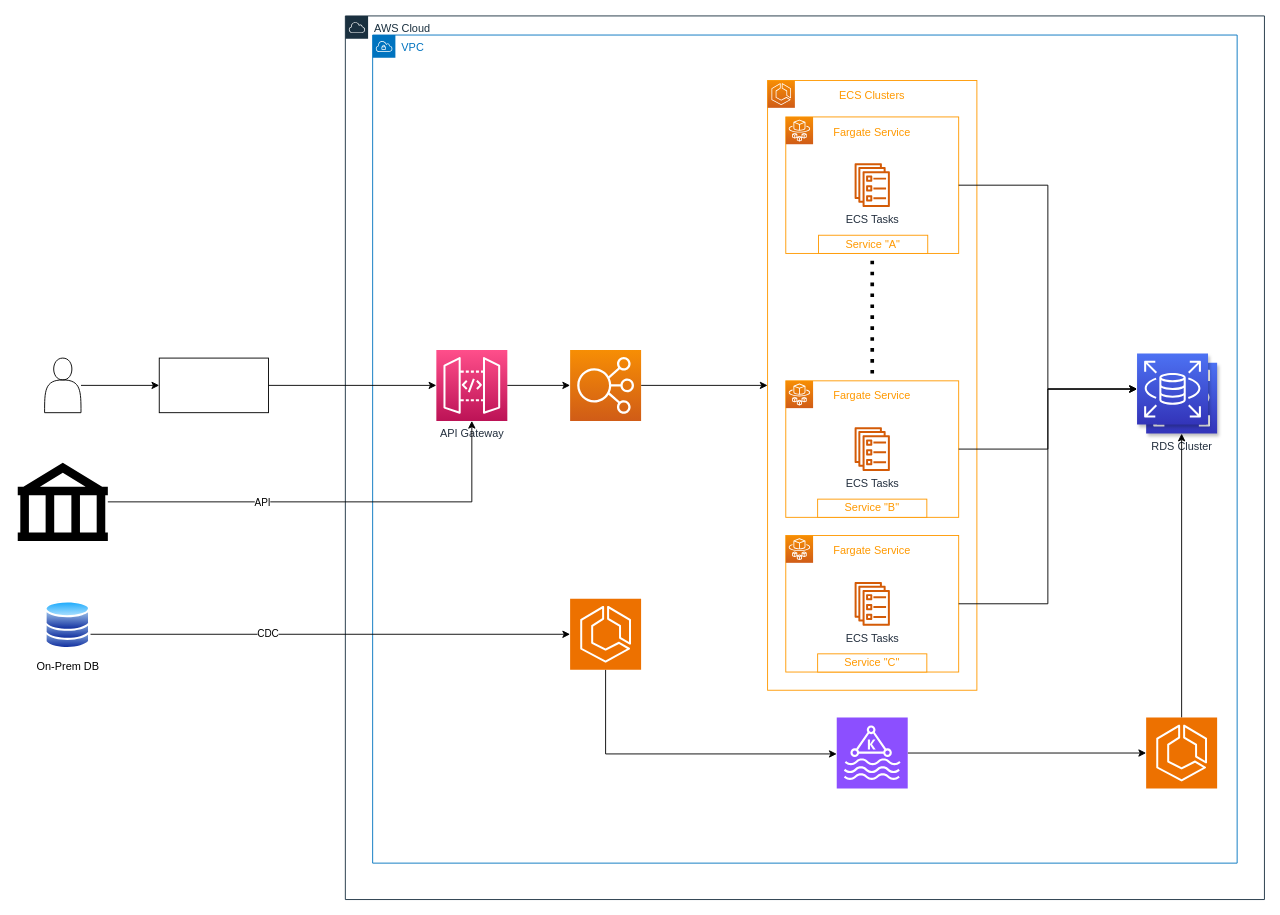
Some shapes in this 1280 by 915 pixel diagram are drawn without their labels. Here are the shapes that lost their labels. From the top down, the centre of each, then its label:
the point at 213,385: portal.paynet.my
the point at 605,385: Application Load Balancer
the point at 62,501: Financial Institution
the point at 605,634: DBZ Source
the point at 872,753: AWS MSK / Kafka
the point at 1181,753: DBZ Sink
